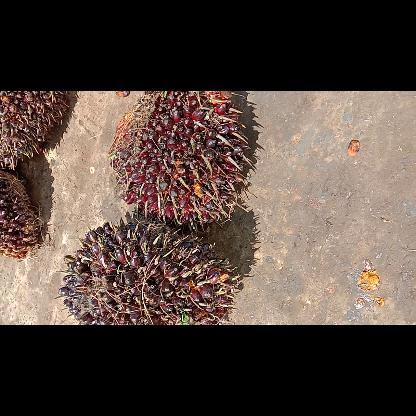TBS mentah: (56, 220, 236, 324), (110, 91, 248, 225)
